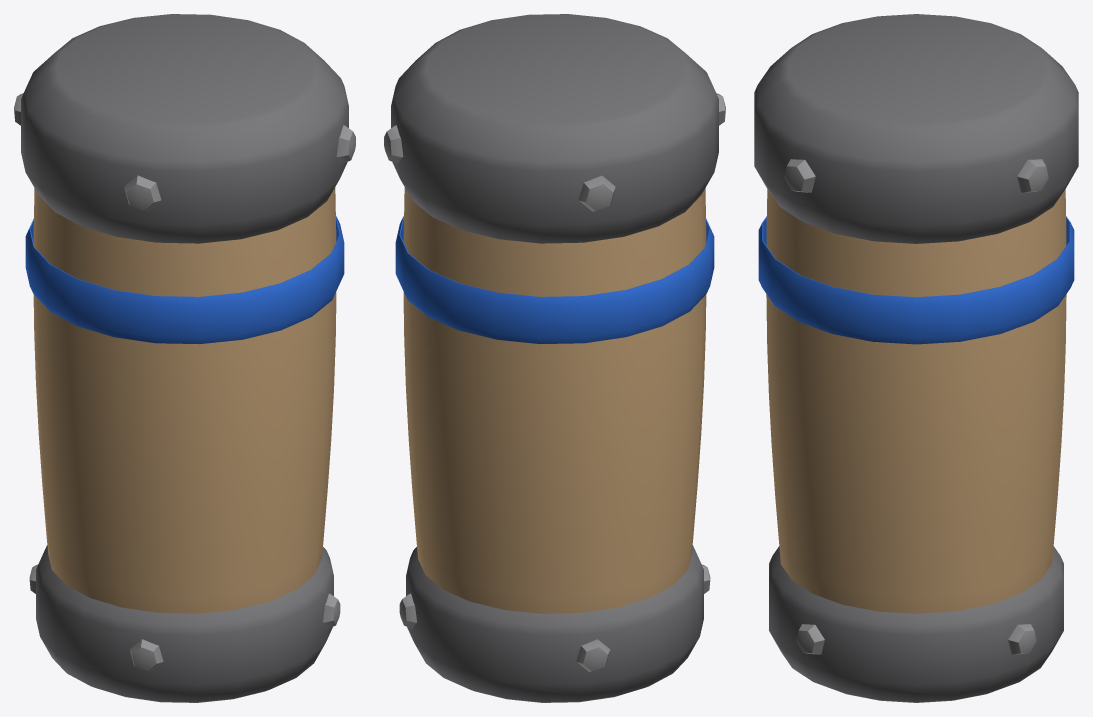
Rendered from Kit_Limb_Basic_S.glb.
The picture shows the model from 3 angles, left to right: view 1: azimuth 30°, elevation 25°; view 2: azimuth 150°, elevation 25°; view 3: azimuth 270°, elevation 25°; orthographic projection.
Parts seen in each view (by area): view 1: Kit_Limb_Basic_S; view 2: Kit_Limb_Basic_S; view 3: Kit_Limb_Basic_S.
Boxes of the visible parts, x1=… form: Kit_Limb_Basic_S: x1=14, y1=14, x2=355, y2=702; Kit_Limb_Basic_S: x1=384, y1=14, x2=725, y2=702; Kit_Limb_Basic_S: x1=754, y1=14, x2=1078, y2=702.
Size of the model in its own units: 0.1276 by 0.2488 by 0.1263.
